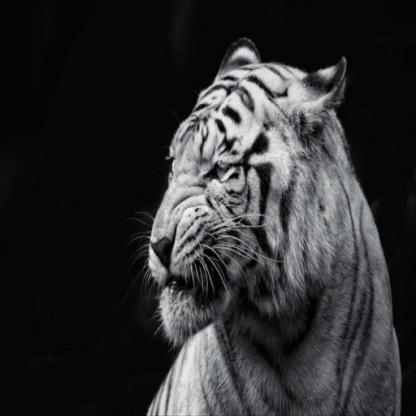Tiger: (132, 31, 406, 415)
